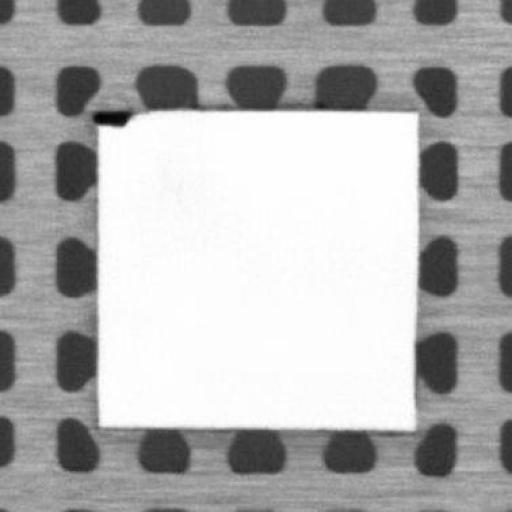DIE_BROKEN: (89, 105, 133, 126)
